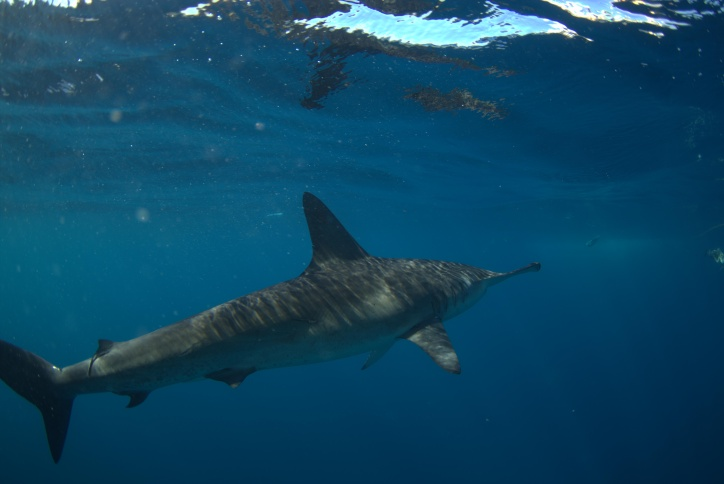Hammer: (1, 170, 612, 478)
